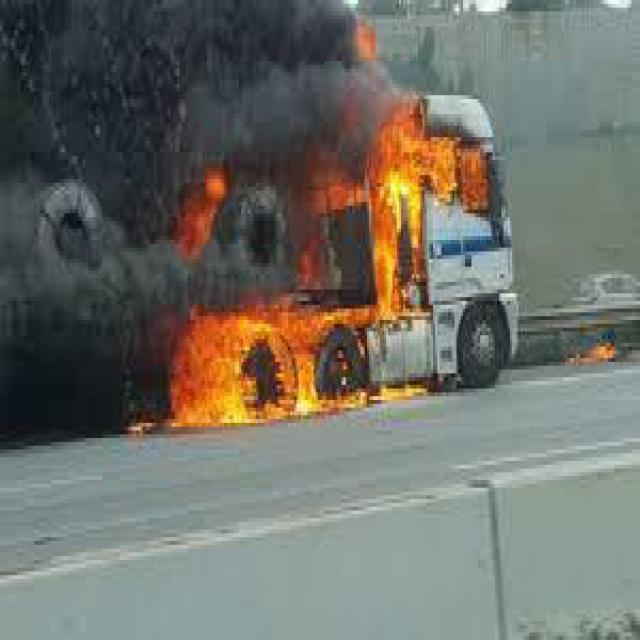fire: (167, 104, 466, 443)
